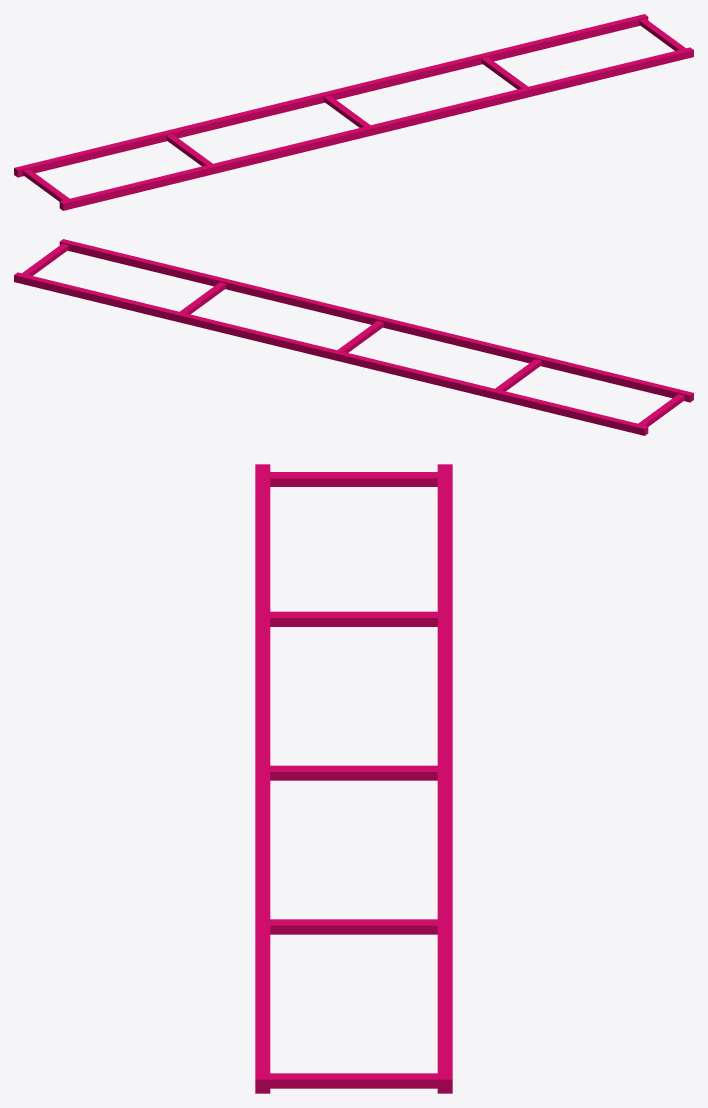
The model's file is Factory_Beam_02_Lod0.fbx.
3 views of the same model, one above another, from view 1: azimuth 30°, elevation 25°; view 2: azimuth 150°, elevation 25°; view 3: azimuth 270°, elevation 25° (orthographic). The views are drawn at different scales.
Parts seen in each view (by area): view 1: Factory_Beam_02_Lod0; view 2: Factory_Beam_02_Lod0; view 3: Factory_Beam_02_Lod0.
Boxes of the visible parts, <box> form: Factory_Beam_02_Lod0: <box>14,14,693,210</box>; Factory_Beam_02_Lod0: <box>14,239,693,435</box>; Factory_Beam_02_Lod0: <box>255,464,452,1093</box>.
Size of the model in its own units: 1200 by 12.69 by 162.
